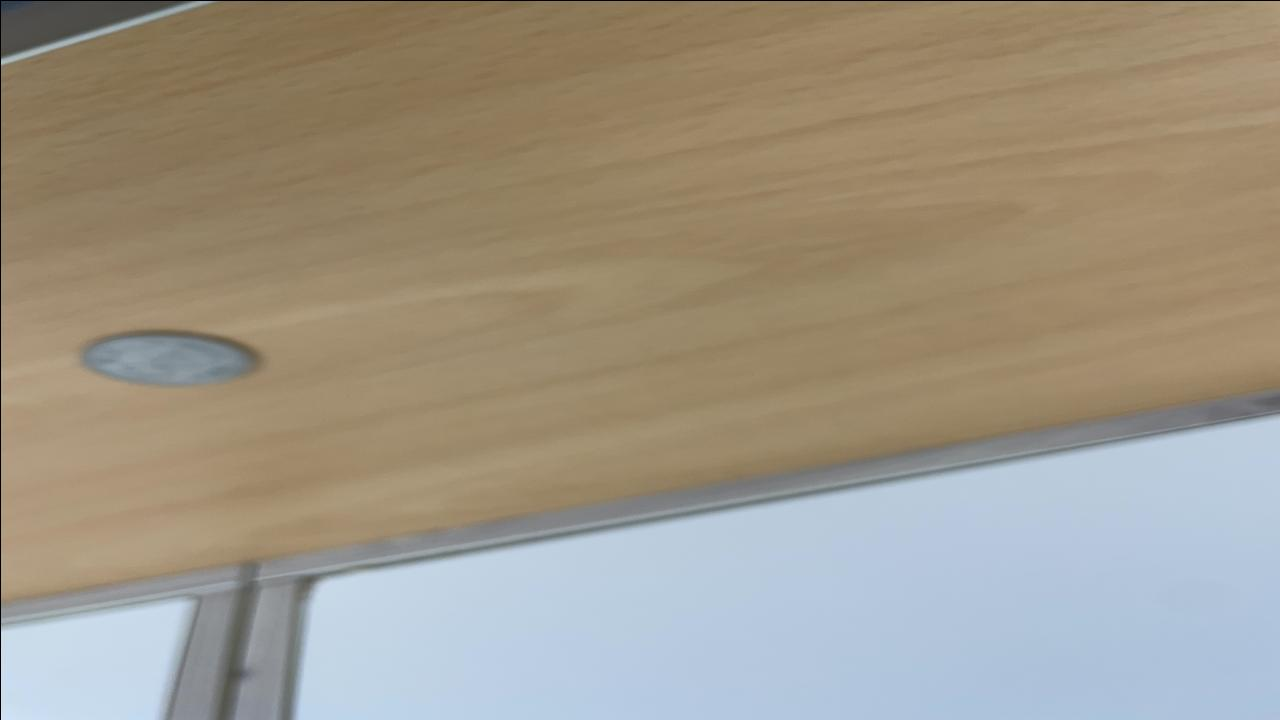coin: (74, 328, 266, 390)
